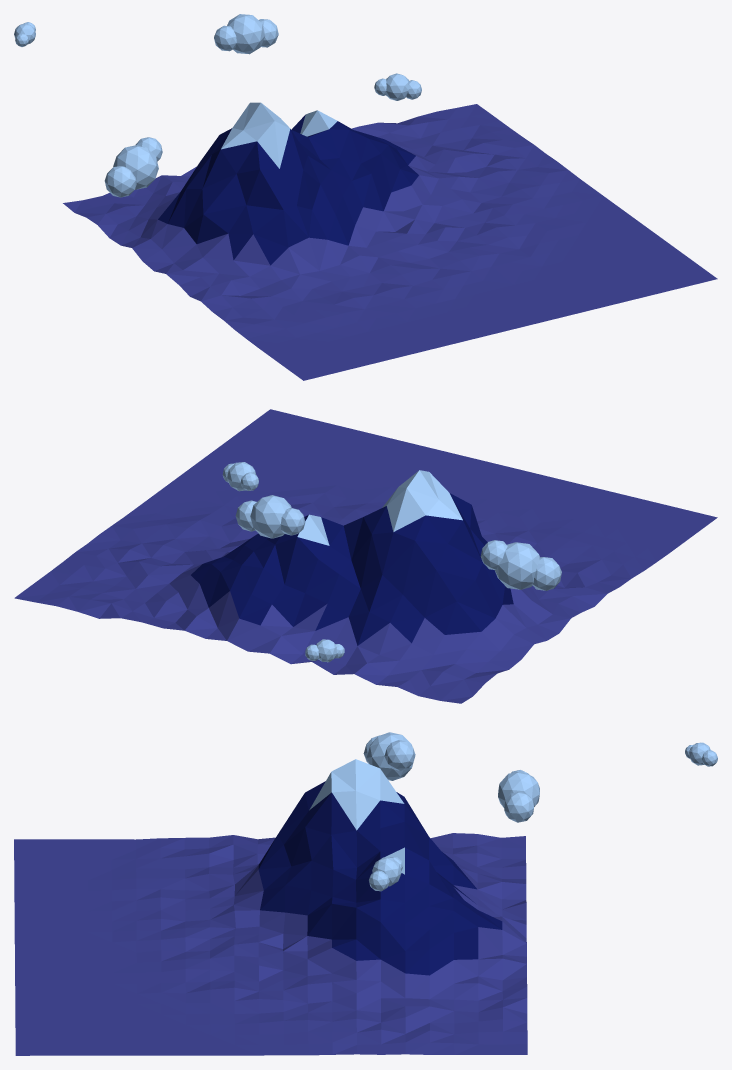
The model's file is terrain.glb.
3 views of the same model, one above another, from view 1: azimuth 30°, elevation 25°; view 2: azimuth 150°, elevation 25°; view 3: azimuth 270°, elevation 25° (orthographic). The views are drawn at different scales.
Parts seen in each view (by area): view 1: Plane; view 2: Plane; view 3: Plane.
Part boxes in pixels (bbox=[...]): Plane: bbox=[14, 14, 717, 380]; Plane: bbox=[14, 409, 717, 703]; Plane: bbox=[14, 732, 717, 1055].
Bounding box in the file's own units: 22.15 × 7.17 × 28.75.
